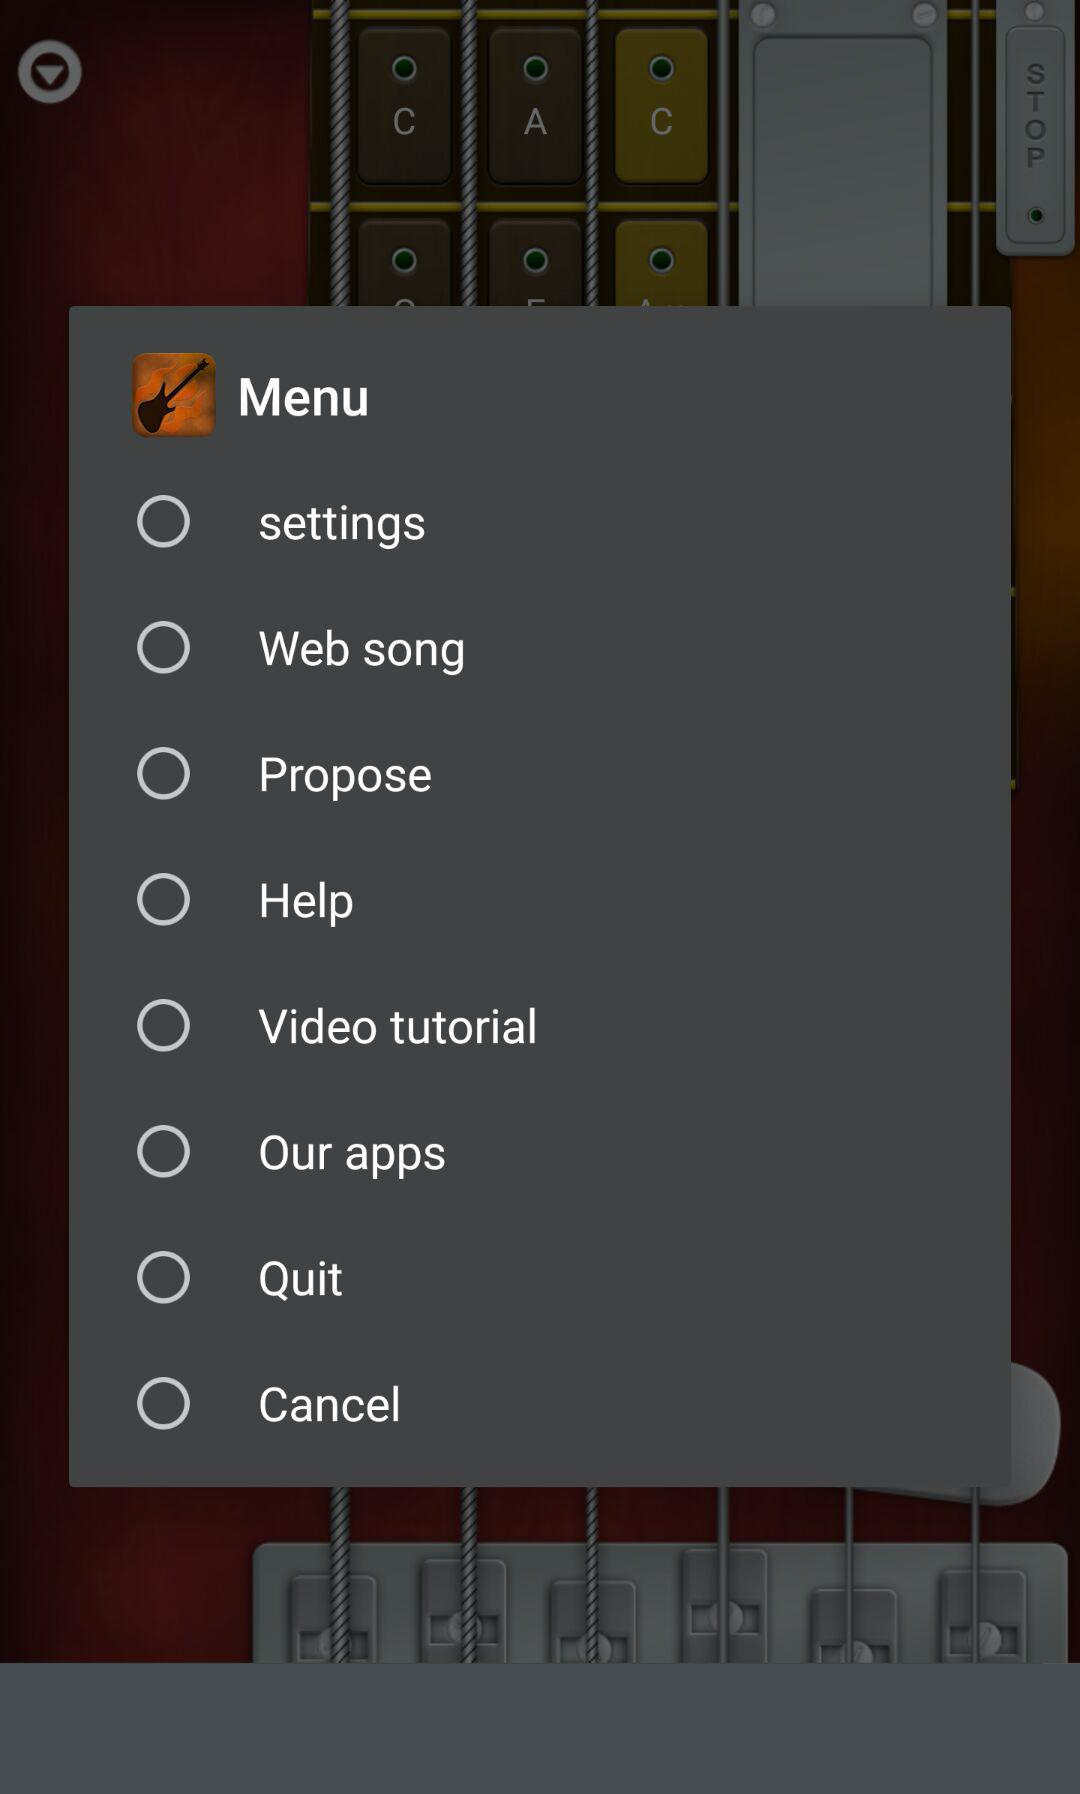CheckedTextView: (137, 998, 537, 1055), (136, 620, 465, 677), (136, 1124, 446, 1181), (137, 746, 433, 803), (136, 495, 427, 551), (136, 1376, 400, 1433), (137, 871, 355, 928), (136, 1249, 345, 1306)
Image: (131, 352, 217, 440)
Modal: (69, 306, 1011, 1488)
Text: (258, 1006, 537, 1046), (259, 628, 465, 677), (259, 1134, 446, 1181), (259, 504, 427, 551), (261, 757, 433, 803), (259, 1383, 400, 1422), (240, 377, 369, 418), (263, 880, 355, 928), (259, 1260, 345, 1303)
